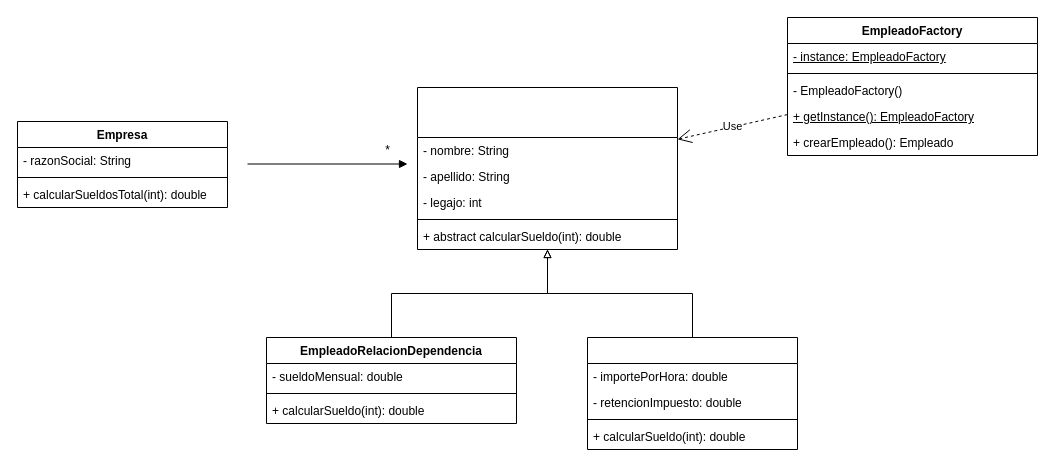
The diagram is 1055 pixels wide and 470 high, and some of its shapes have lost their labels. The shapes that lost their labels are listed below. From the top down, each one's box as (x1, y1, x2, y2) in pixels, then its label:
(416, 86, 678, 250): <<Abstract>> Empleado
(586, 336, 798, 450): EmpleadoContratado
